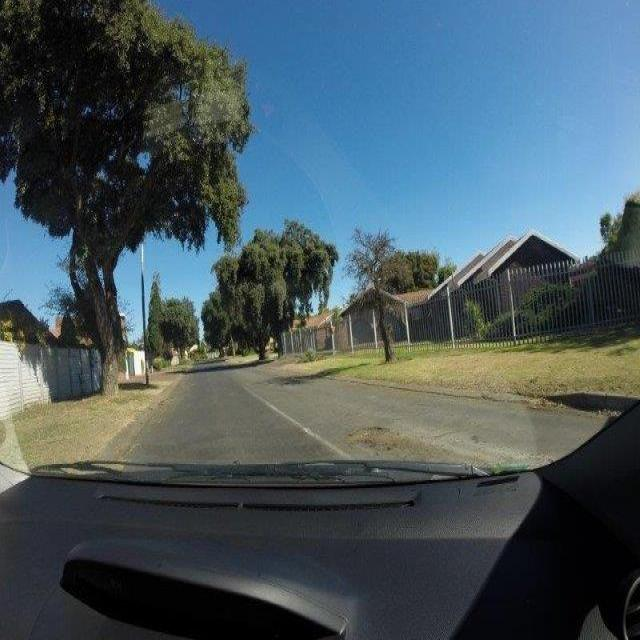lubang: (345, 423, 409, 457)
